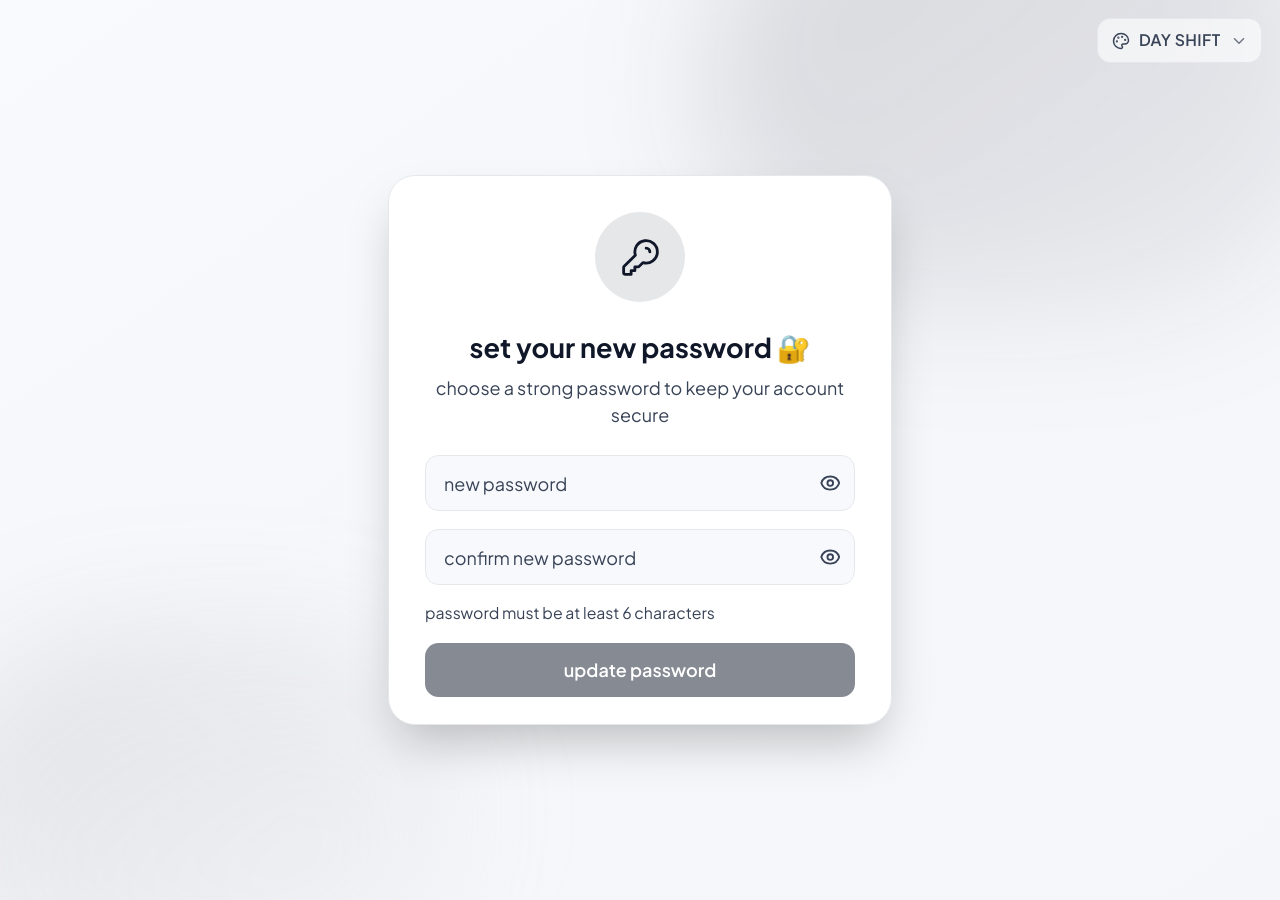
ResetPasswordPage › validates password mismatch
This screenshot has width=1280, height=900.
Type "password123" into the password field with placeholder "new password".
click(640, 483); type("password123")  # box [425,455,855,511]
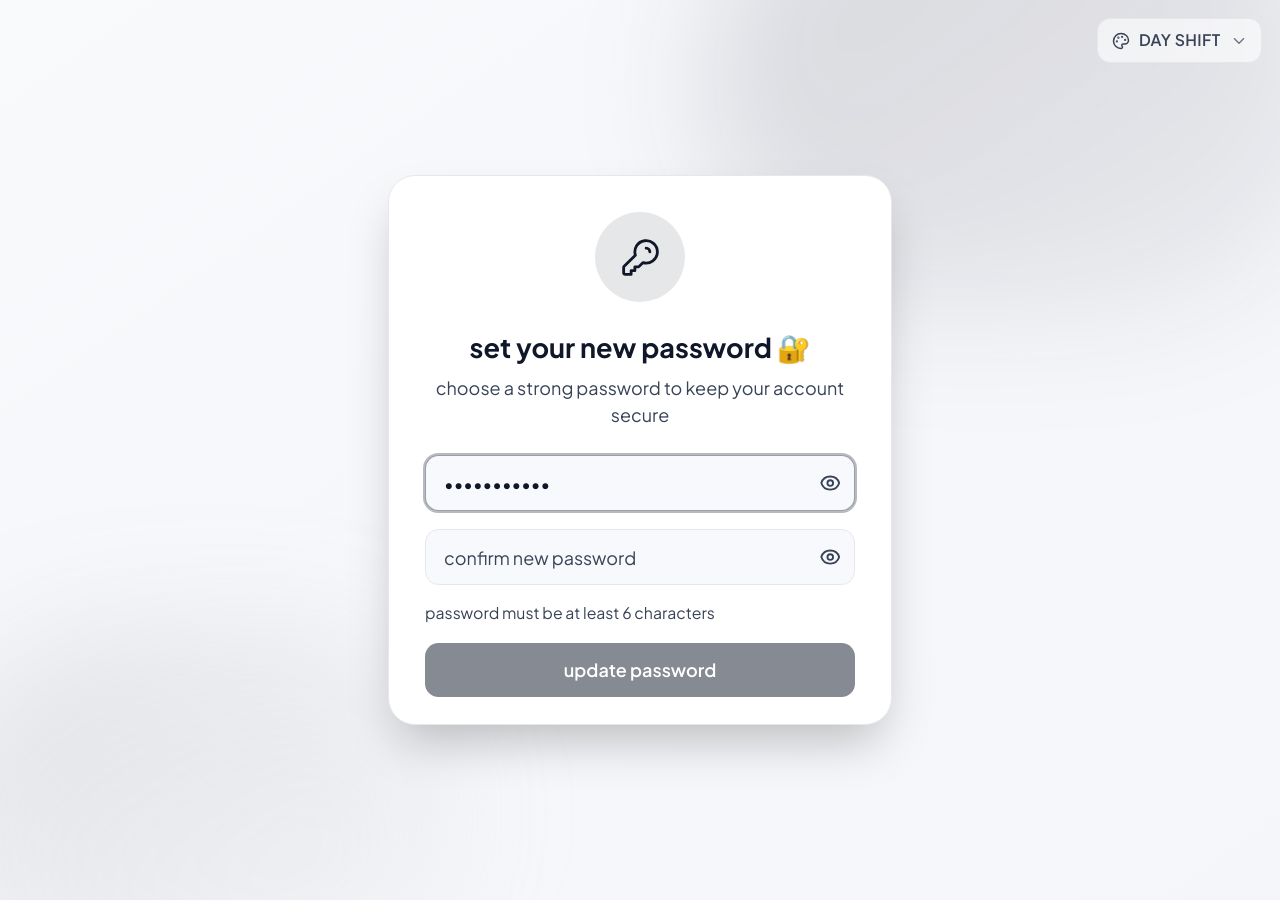
Type "password456" into the password field with placeholder "confirm new password".
click(640, 557); type("password456")  # box [425,529,855,585]
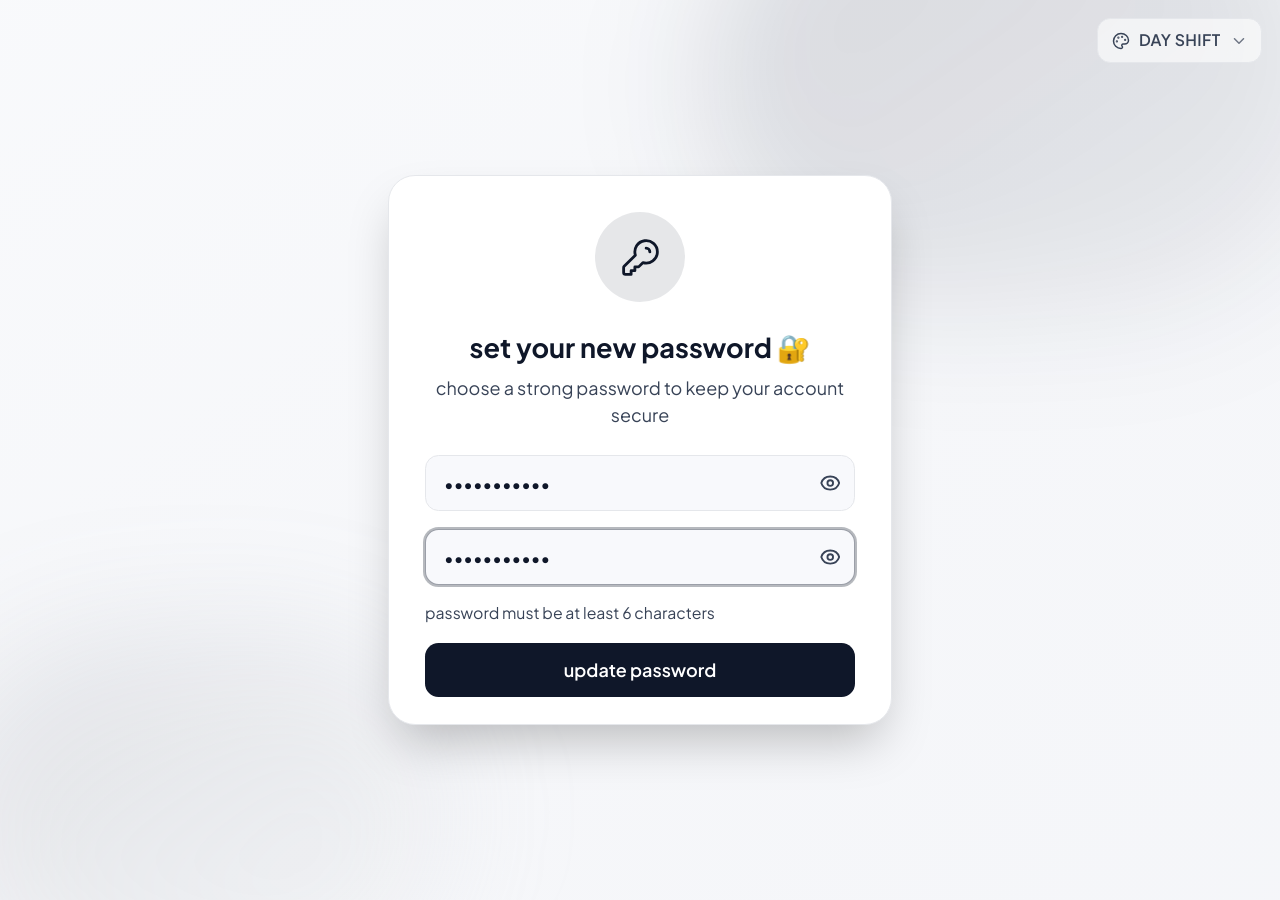
Click the button "update password".
click(640, 670)  # box [425,643,855,697]
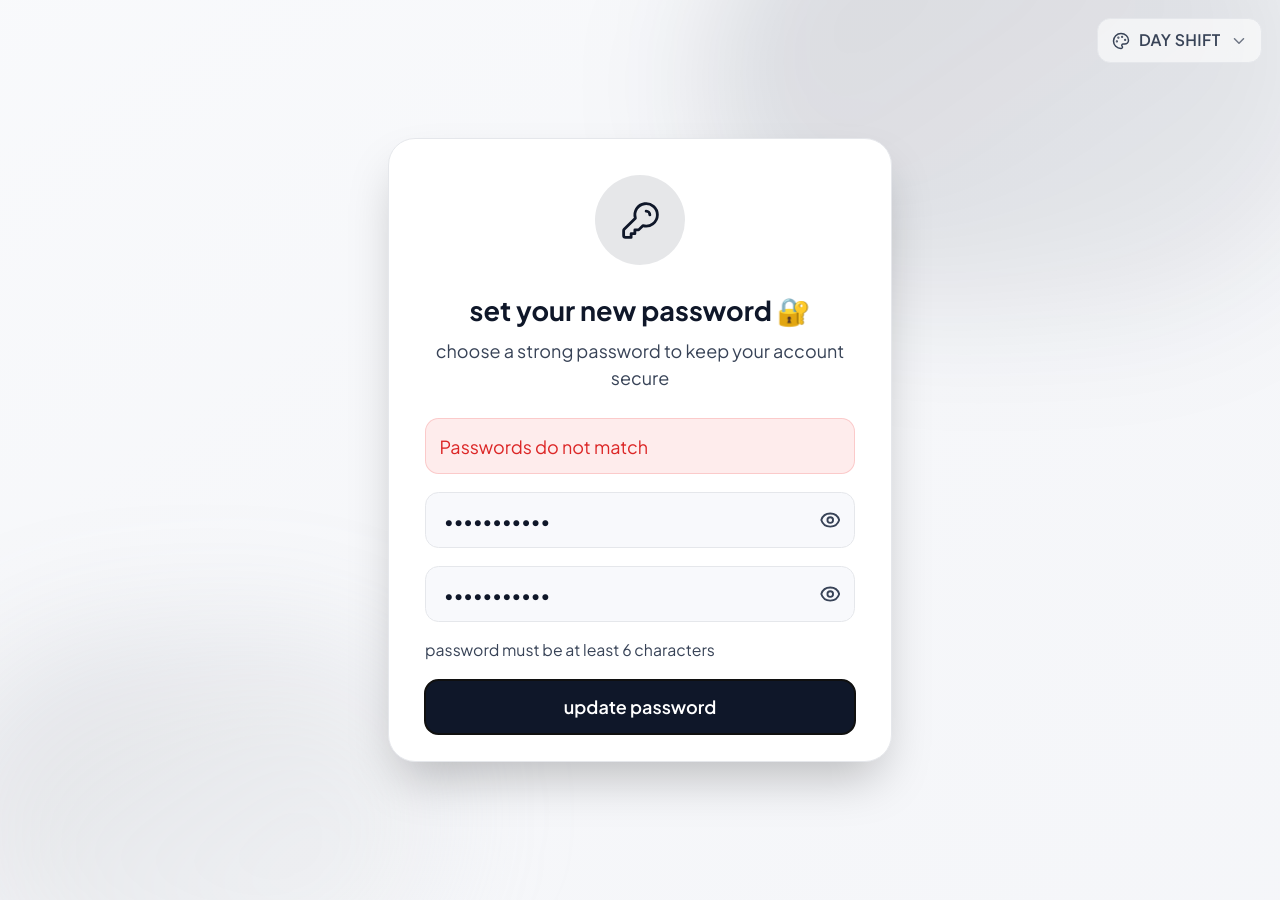
Result: the text "Passwords do not match" is shown at [425,418,855,474]
